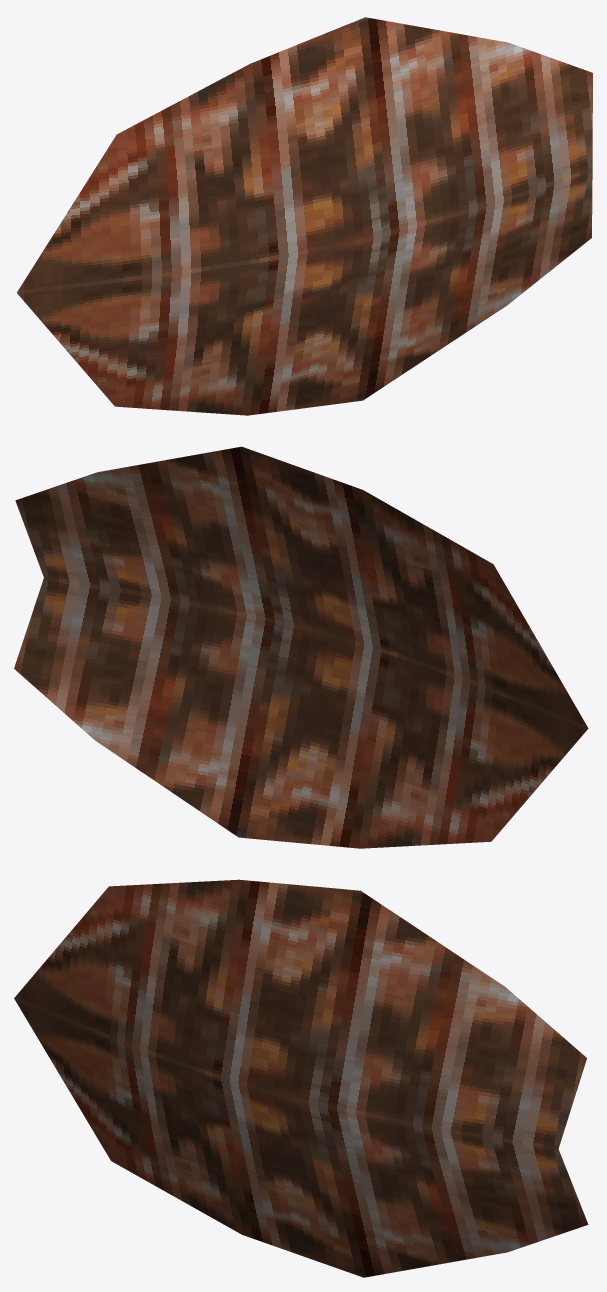
The picture shows the model from 3 angles, top to bottom: view 1: azimuth 30°, elevation 25°; view 2: azimuth 150°, elevation 25°; view 3: azimuth 330°, elevation 25°; orthographic projection.
Visible parts, largest first — view 1: it220; view 2: it220; view 3: it220.
Boxes of the visible parts, box(x1,y1,x2,y2) form: it220: box(17, 17, 592, 415); it220: box(14, 446, 588, 848); it220: box(14, 879, 588, 1277).
Bounding box in the file's own units: 2.77 × 1.78 × 0.3073.
Materials: 1 (1 with a texture image).
